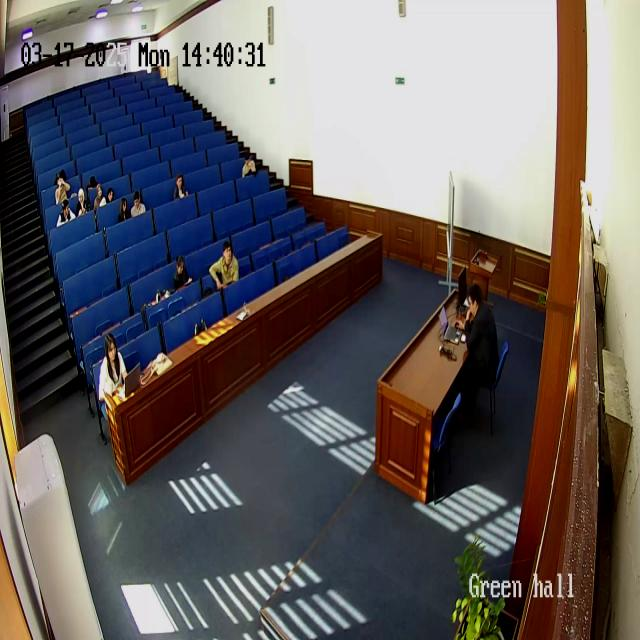person: (452, 282, 500, 426), (98, 332, 128, 410), (208, 239, 240, 290), (172, 254, 192, 292), (56, 197, 76, 226), (55, 174, 71, 204), (173, 172, 189, 200), (130, 190, 146, 217), (76, 187, 90, 217), (93, 185, 107, 212), (118, 197, 130, 223), (242, 155, 256, 177), (106, 182, 114, 208)
